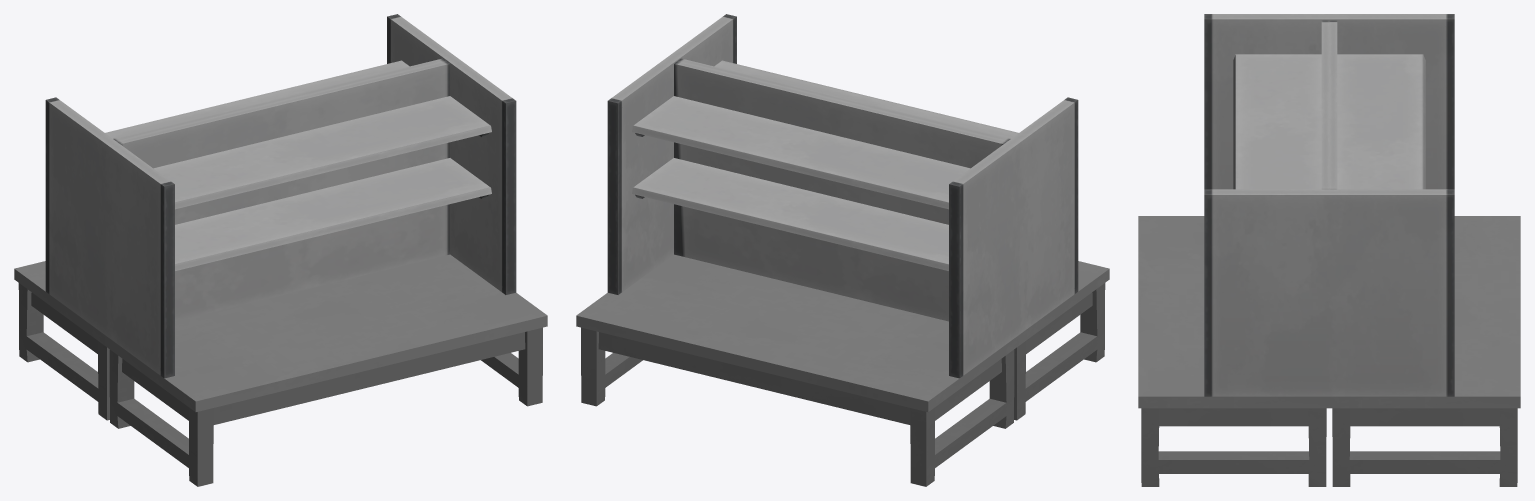
The model's file is Pfb_Table_03_1_JLAB.fbx.
The picture shows the model from 3 angles, left to right: view 1: azimuth 30°, elevation 25°; view 2: azimuth 150°, elevation 25°; view 3: azimuth 270°, elevation 25°; orthographic projection. The views are drawn at different scales.
Visible parts, largest first — view 1: Mat_Shop_Shelf_01_Grey, Mat_Table_02_White_JLAB; view 2: Mat_Shop_Shelf_01_Grey, Mat_Table_02_White_JLAB; view 3: Mat_Shop_Shelf_01_Grey, Mat_Table_02_White_JLAB.
Boxes of the visible parts, <box> form: Mat_Shop_Shelf_01_Grey: <box>45,14,516,378</box>; Mat_Table_02_White_JLAB: <box>14,254,547,486</box>; Mat_Shop_Shelf_01_Grey: <box>607,14,1078,378</box>; Mat_Table_02_White_JLAB: <box>576,254,1109,486</box>; Mat_Shop_Shelf_01_Grey: <box>1204,14,1454,396</box>; Mat_Table_02_White_JLAB: <box>1138,216,1520,486</box>.
Bounding box in the file's own units: 2.78 × 2.1 × 2.48.
Materials: 2 (2 with a texture image).
